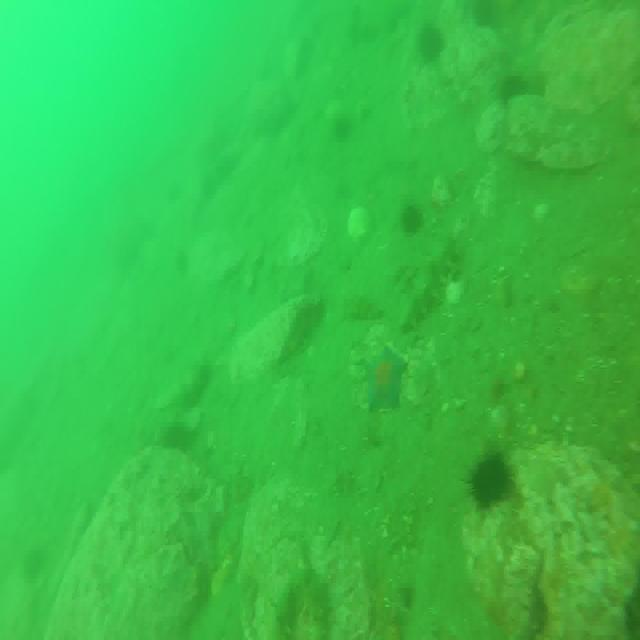echinus: (467, 452, 514, 510), (417, 27, 443, 70), (506, 68, 527, 116), (405, 202, 420, 234)
holothurian: (403, 237, 465, 337), (330, 294, 386, 319)
starfish: (365, 344, 406, 410)
